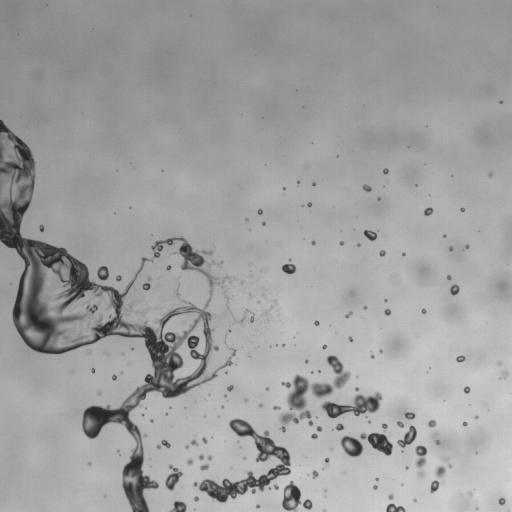droplet: (193, 418, 290, 502), (279, 355, 350, 431), (340, 423, 392, 457), (282, 481, 312, 511), (165, 464, 182, 490), (170, 500, 186, 511), (97, 266, 109, 280), (281, 263, 296, 274), (364, 230, 377, 241), (142, 276, 151, 290), (450, 284, 459, 295), (404, 412, 415, 419), (424, 207, 433, 215), (428, 419, 436, 427), (362, 184, 371, 191), (456, 355, 465, 362), (501, 370, 508, 378), (335, 423, 343, 430), (200, 464, 209, 470), (498, 498, 505, 505), (163, 264, 171, 270), (384, 309, 391, 315), (464, 386, 470, 393), (312, 471, 318, 478), (379, 250, 385, 256), (345, 312, 351, 318), (227, 385, 233, 391), (397, 421, 403, 427), (191, 439, 197, 445), (187, 459, 193, 465), (324, 458, 329, 465), (39, 225, 44, 231), (116, 275, 121, 281), (316, 426, 322, 431), (311, 434, 317, 439), (202, 437, 207, 443), (273, 405, 280, 409), (383, 169, 388, 174), (257, 209, 262, 214), (314, 320, 319, 325), (273, 484, 278, 489), (388, 494, 393, 499), (488, 172, 492, 177), (446, 275, 451, 279), (421, 309, 426, 313), (370, 353, 374, 358), (112, 375, 116, 380), (199, 455, 203, 460), (207, 455, 211, 460), (194, 496, 198, 501), (307, 202, 311, 206), (339, 241, 343, 245), (465, 244, 469, 248), (363, 305, 367, 309), (348, 337, 352, 341), (322, 345, 326, 349), (497, 361, 501, 365), (463, 422, 467, 426), (373, 485, 377, 489), (256, 504, 260, 508), (258, 404, 263, 407), (311, 241, 315, 244), (239, 281, 243, 284), (227, 328, 230, 332), (91, 369, 95, 372), (474, 416, 478, 419), (312, 182, 315, 185), (461, 208, 464, 211), (262, 222, 265, 225), (357, 243, 360, 246), (449, 247, 452, 250), (355, 387, 358, 390), (245, 398, 248, 401), (469, 492, 472, 495), (500, 100, 502, 103), (297, 181, 299, 184), (9, 188, 11, 191), (377, 198, 380, 200), (443, 235, 446, 237), (402, 253, 405, 255), (384, 299, 387, 301), (379, 350, 382, 352), (305, 360, 308, 362), (266, 387, 268, 390), (98, 392, 101, 394), (406, 466, 408, 469), (375, 478, 378, 480), (413, 499, 416, 501), (250, 294, 252, 296), (318, 370, 320, 372), (186, 446, 188, 448), (243, 457, 245, 459), (476, 507, 478, 509)
ligament: (0, 119, 235, 511), (321, 392, 382, 418), (430, 456, 451, 493), (397, 425, 416, 448), (415, 445, 427, 477), (261, 300, 277, 318), (238, 309, 249, 324), (386, 503, 405, 511), (156, 440, 170, 448), (432, 433, 440, 444), (224, 294, 229, 309), (142, 308, 149, 316), (250, 313, 255, 322), (322, 510, 326, 511)
